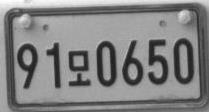0: (172, 37, 194, 85), (95, 40, 117, 87)
1: (43, 42, 67, 88)
5: (147, 38, 169, 85)
6: (121, 39, 143, 86)
9: (16, 42, 38, 89)
모: (68, 49, 91, 87)
